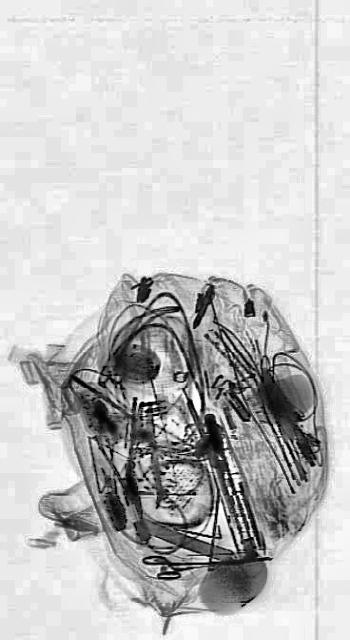Scissors: (142, 544, 272, 582)
